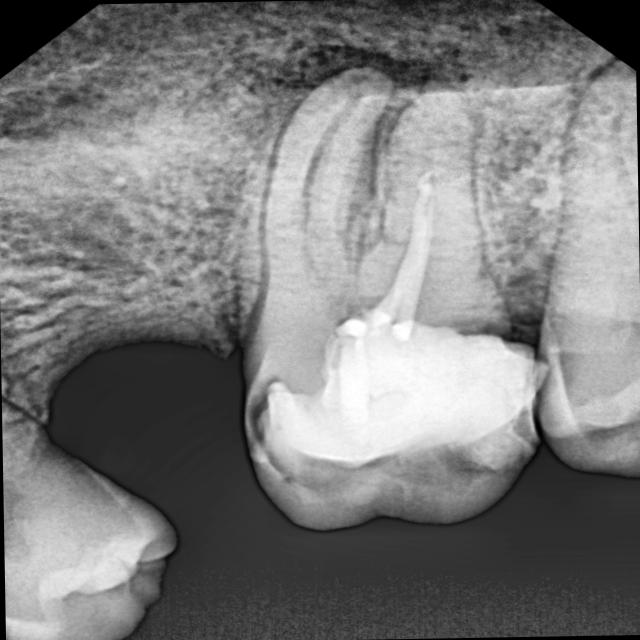RCT: (228, 55, 530, 353)
Restoration: (244, 304, 567, 483)
